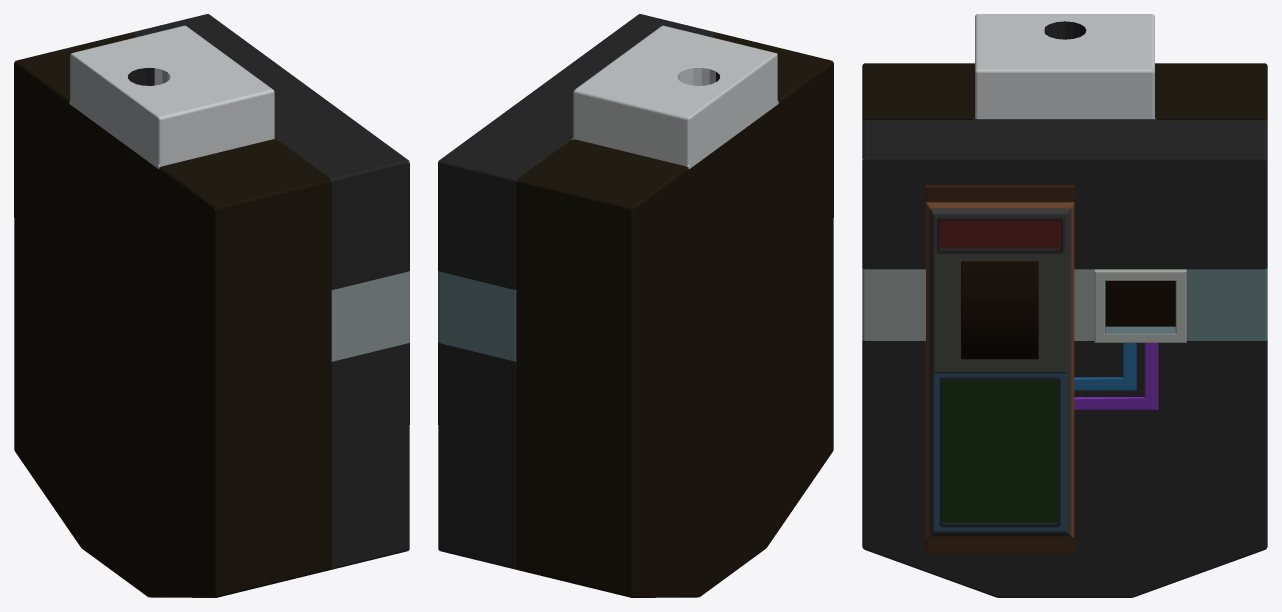
Rendered from CircuitBreakerSmart_BuildState1.fbx.
3 renders of one model, left to right at view 1: azimuth 30°, elevation 25°; view 2: azimuth 150°, elevation 25°; view 3: azimuth 270°, elevation 25°, orthographic.
Parts seen in each view (by area): view 1: CircuitBreakerSmart_BuildState1; view 2: CircuitBreakerSmart_BuildState1; view 3: CircuitBreakerSmart_BuildState1.
Boxes of the visible parts, x1,y1,x2,y2 form: CircuitBreakerSmart_BuildState1: [14, 14, 409, 597]; CircuitBreakerSmart_BuildState1: [438, 14, 833, 597]; CircuitBreakerSmart_BuildState1: [862, 14, 1267, 597].
Bounding box in the file's own units: 37.5 × 50 × 24.16.
